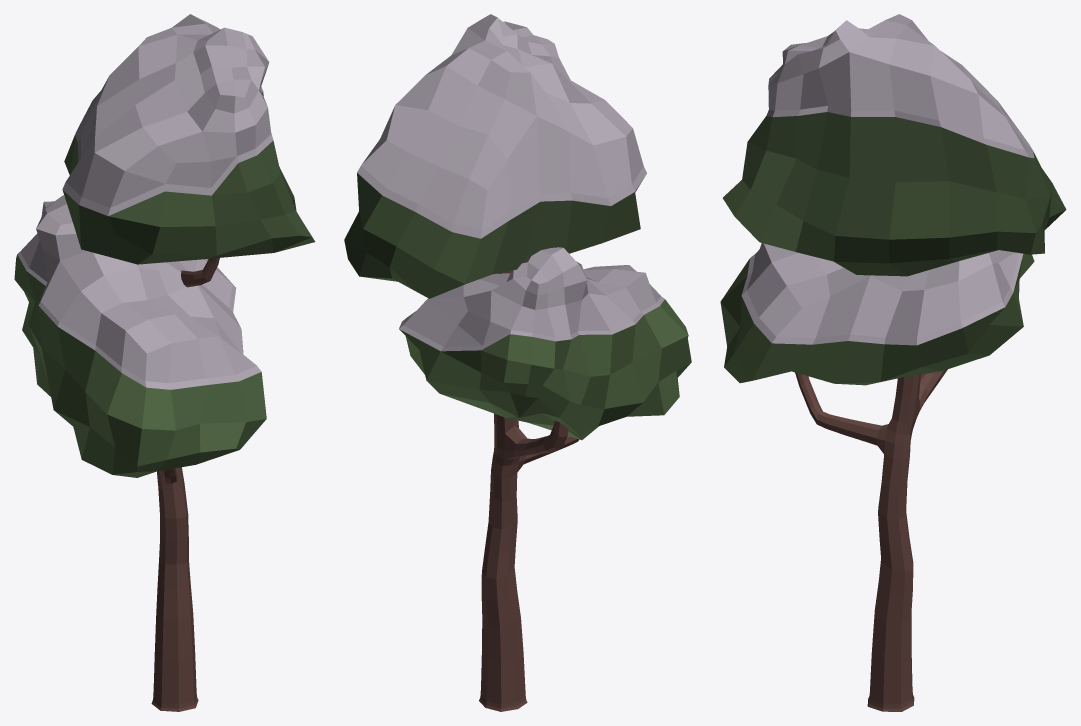
The model's file is CommonTree_Snow_3.glb.
3 views of the same model, side by side, from view 1: azimuth 30°, elevation 25°; view 2: azimuth 150°, elevation 25°; view 3: azimuth 270°, elevation 25° (orthographic). The views are drawn at different scales.
Visible parts, largest first — view 1: CommonTree_Snow_3; view 2: CommonTree_Snow_3; view 3: CommonTree_Snow_3.
Boxes of the visible parts, box(x1,y1,x2,y2) form: CommonTree_Snow_3: box(14, 14, 315, 711); CommonTree_Snow_3: box(344, 14, 691, 711); CommonTree_Snow_3: box(720, 14, 1066, 711).
Size of the model in its own units: 1.28 by 3.47 by 1.56.
